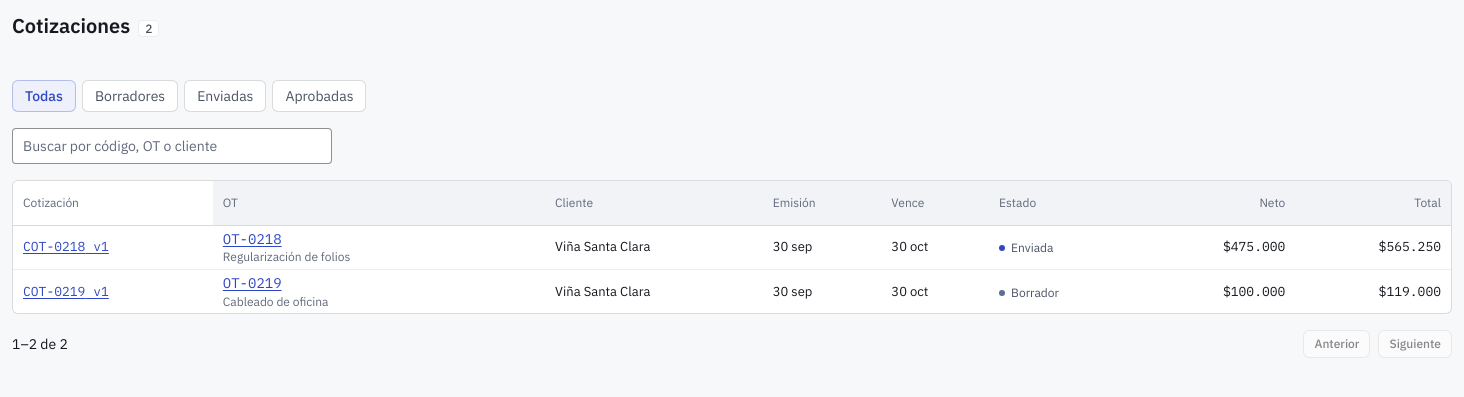
Test case: la búsqueda escribe q en la URL
Expected: the link "COT-0218 v1" is shown, [23, 238, 109, 255]
Type "218" into the search field named "Buscar cotizaciones".
click(172, 146); type("218")  # box [12, 128, 332, 164]
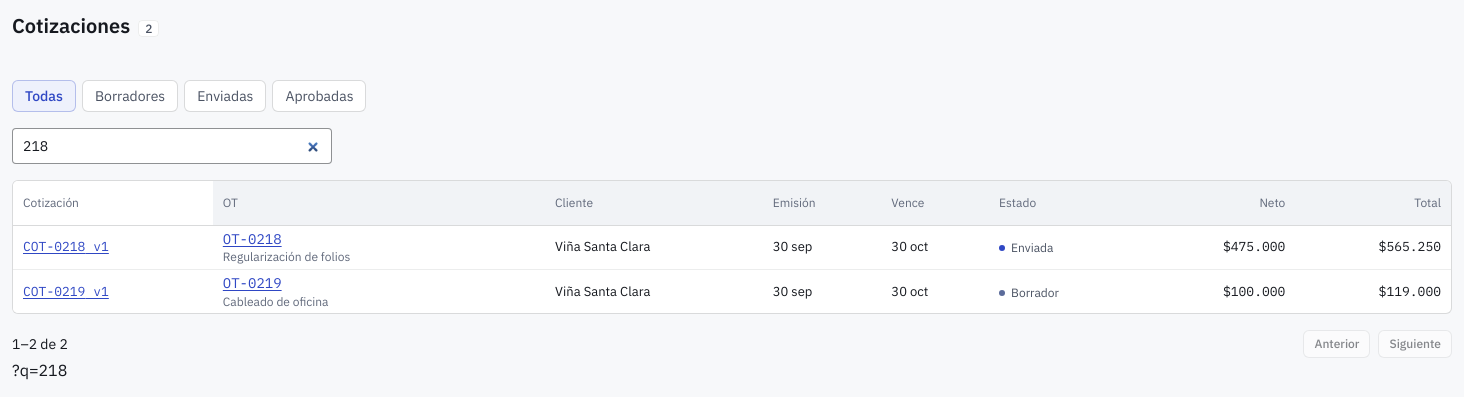
Result: the text named "URL" reads "?q=218" at [12, 360, 67, 380]
